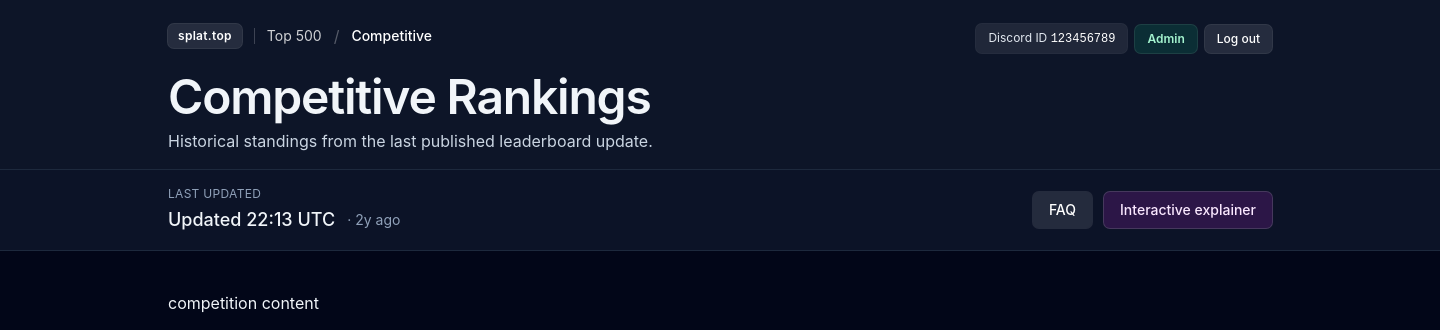
Scenario: Competition auth UI › renders the Discord ID and clears back to login after logout
This screenshot has width=1440, height=330.
Expected: the text "123456789" is shown, x1=1051 y1=32 x2=1115 y2=46
Expected: the text "Admin" is shown, x1=1136 y1=24 x2=1197 y2=52
Click the button "Log out".
click(1238, 38)  # box x1=1205 y1=24 x2=1272 y2=52
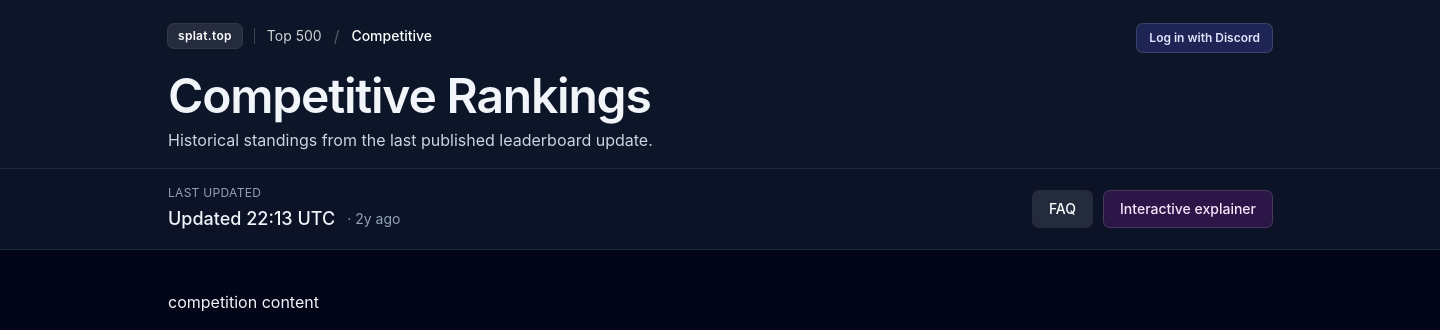
Expected: the link "Log in with Discord" is shown, x1=1137 y1=24 x2=1272 y2=52
